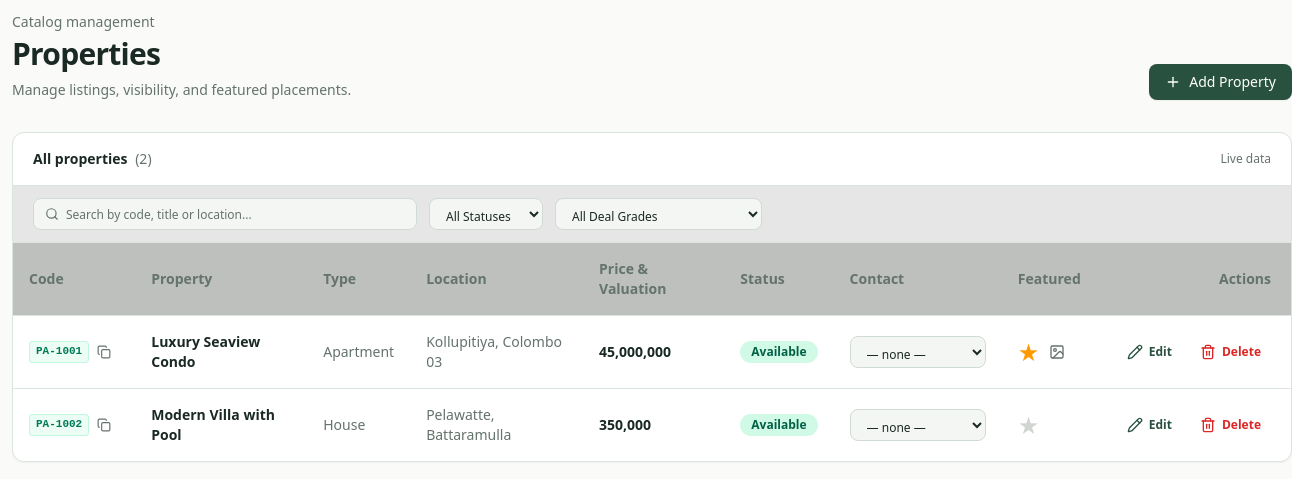
Test: AdminPropertiesPage - Property Code display › filters properties when searching by property code
The width and height of the screenshot is (1292, 479).
In the field with placeholder "Search by code, title or location...": [225, 214] box [33,198,417,230], type "PA-1002"
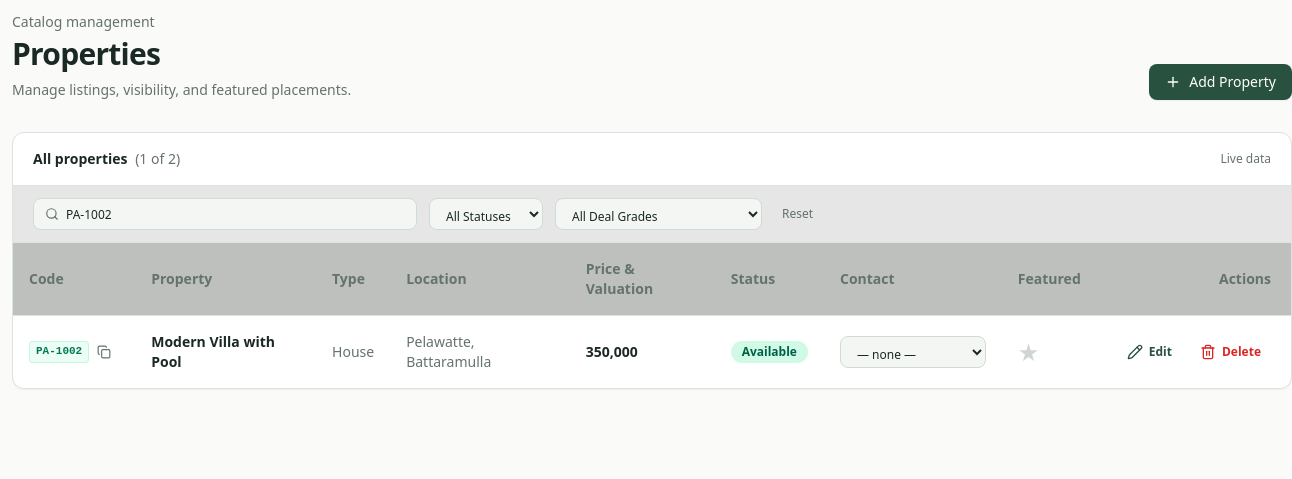
Result: the link "Luxury Seaview Condo" is gone
